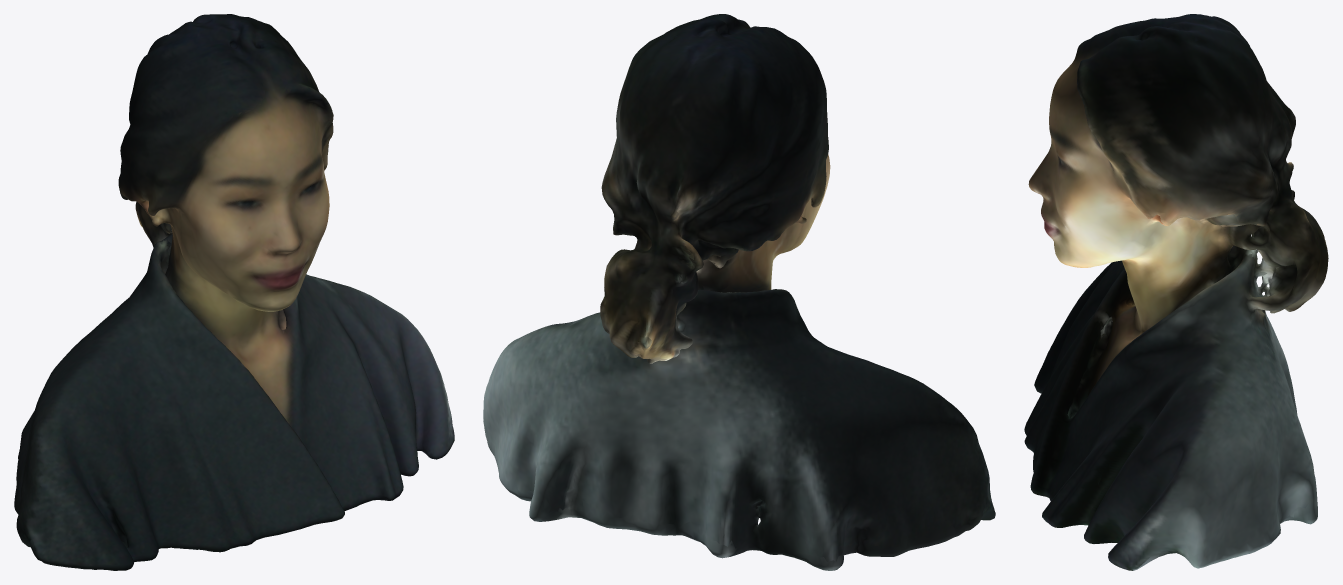
3 views of the same model, side by side, from view 1: azimuth 30°, elevation 25°; view 2: azimuth 150°, elevation 25°; view 3: azimuth 270°, elevation 25° (orthographic). The views are drawn at different scales.
Parts seen in each view (by area): view 1: Mesh; view 2: Mesh; view 3: Mesh.
Boxes of the visible parts, box(x1,y1,x2,y2) form: Mesh: box(14, 14, 454, 570); Mesh: box(483, 14, 995, 570); Mesh: box(1024, 14, 1328, 570).
Size of the model in its own units: 0.4481 by 0.439 by 0.2658.
1 material, 1 textured.
